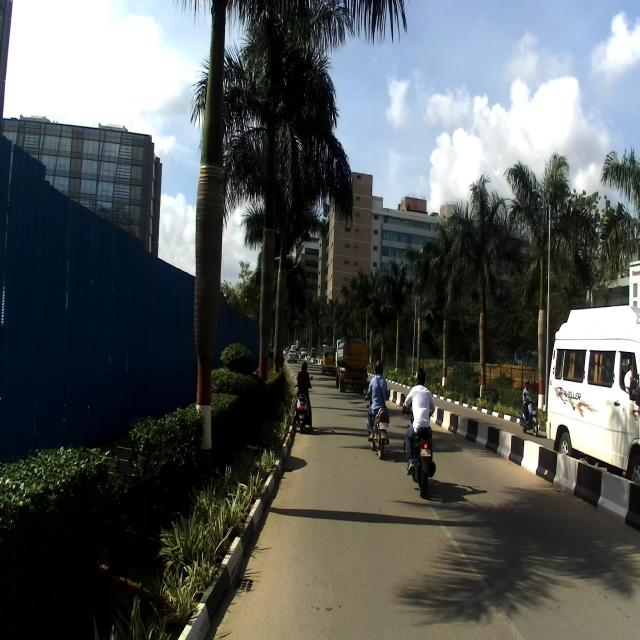mini-bus: (546, 296, 640, 474)
motorcycle: (401, 404, 437, 500), (363, 387, 390, 460)
